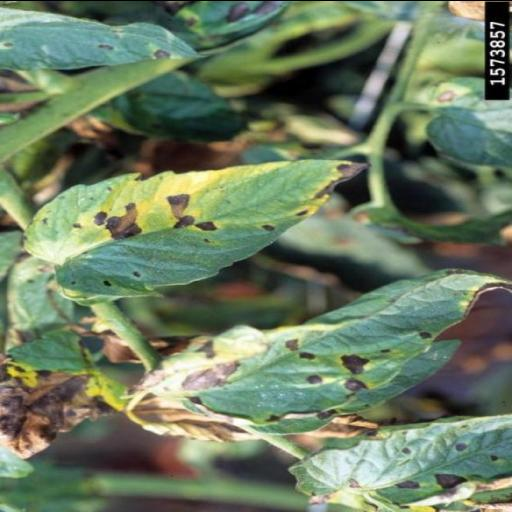Early Blight: (146, 264, 484, 424), (36, 142, 346, 304), (291, 414, 512, 506)
